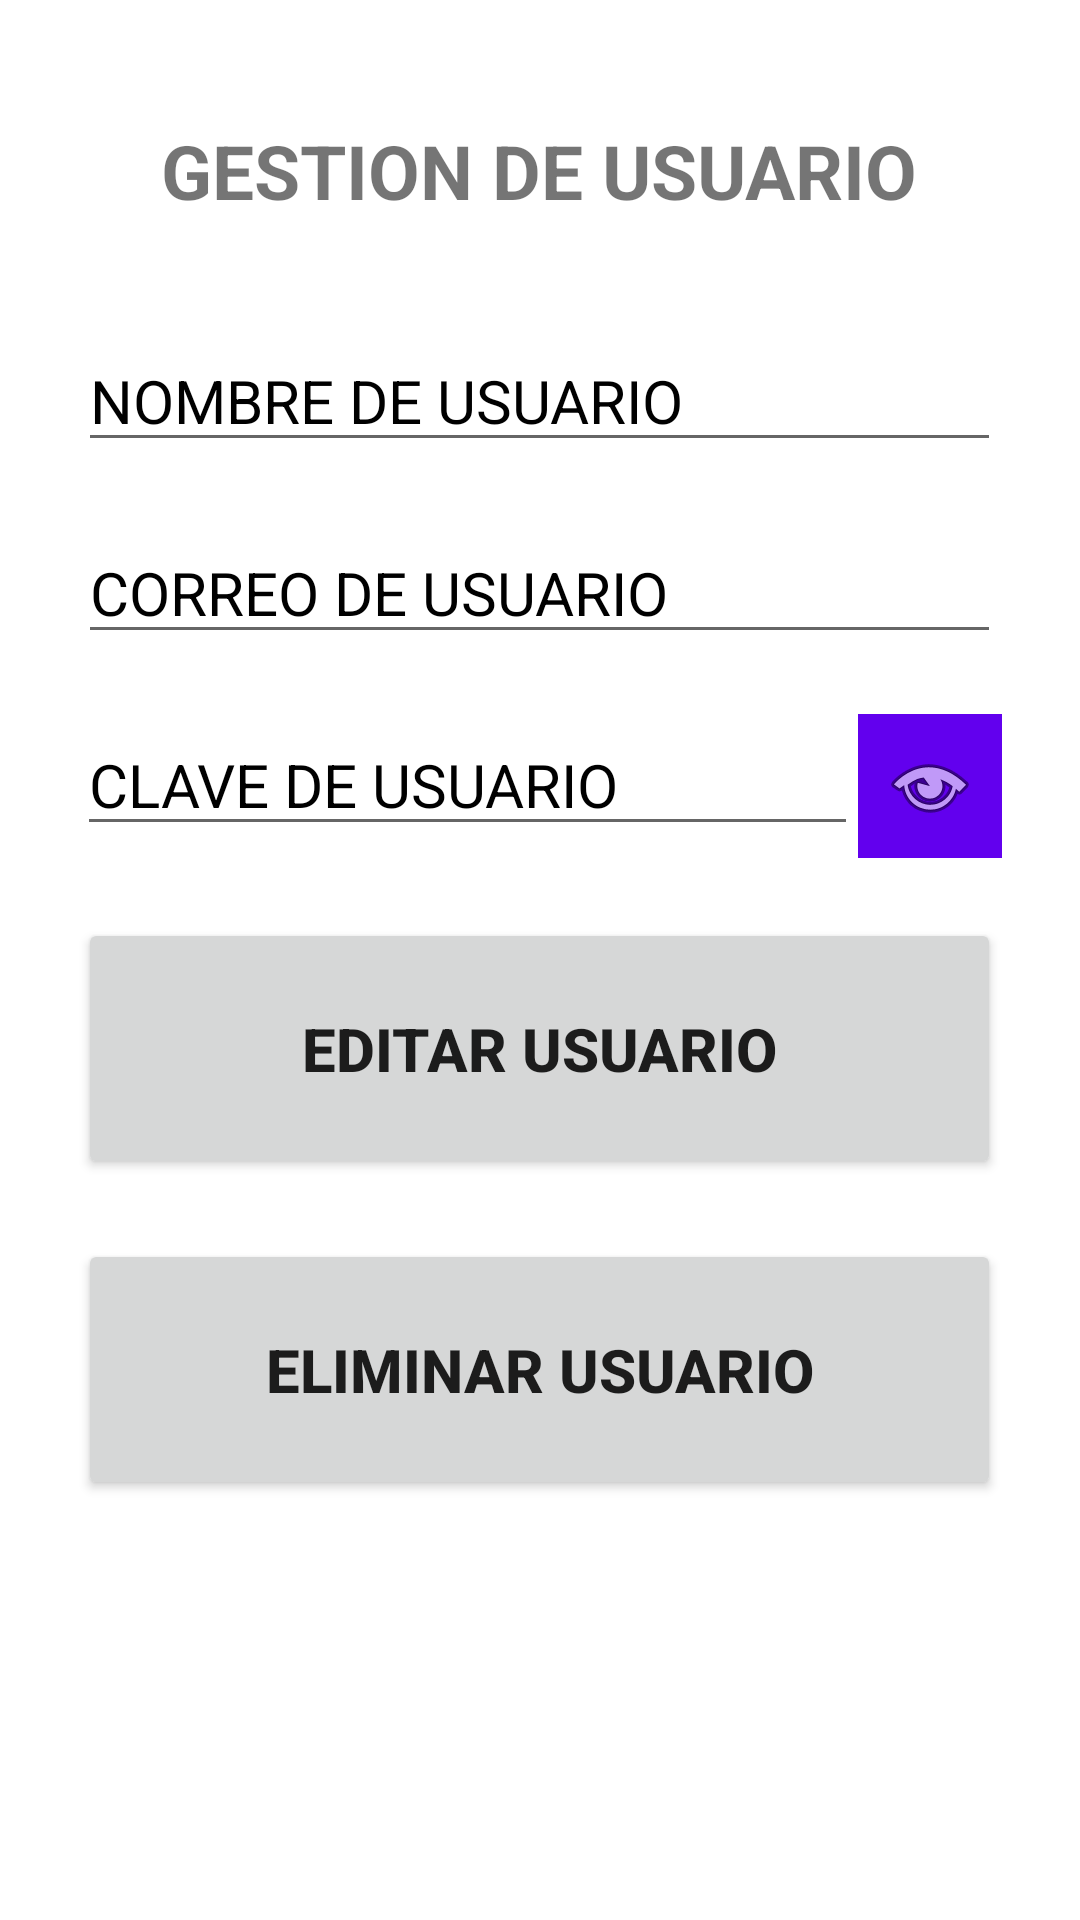

Named icons in this screenshot (1080 x 1920) and their bounding boxes, (x1, y1, x2, y2):
VER CLAVE: (858, 714, 1002, 858)
